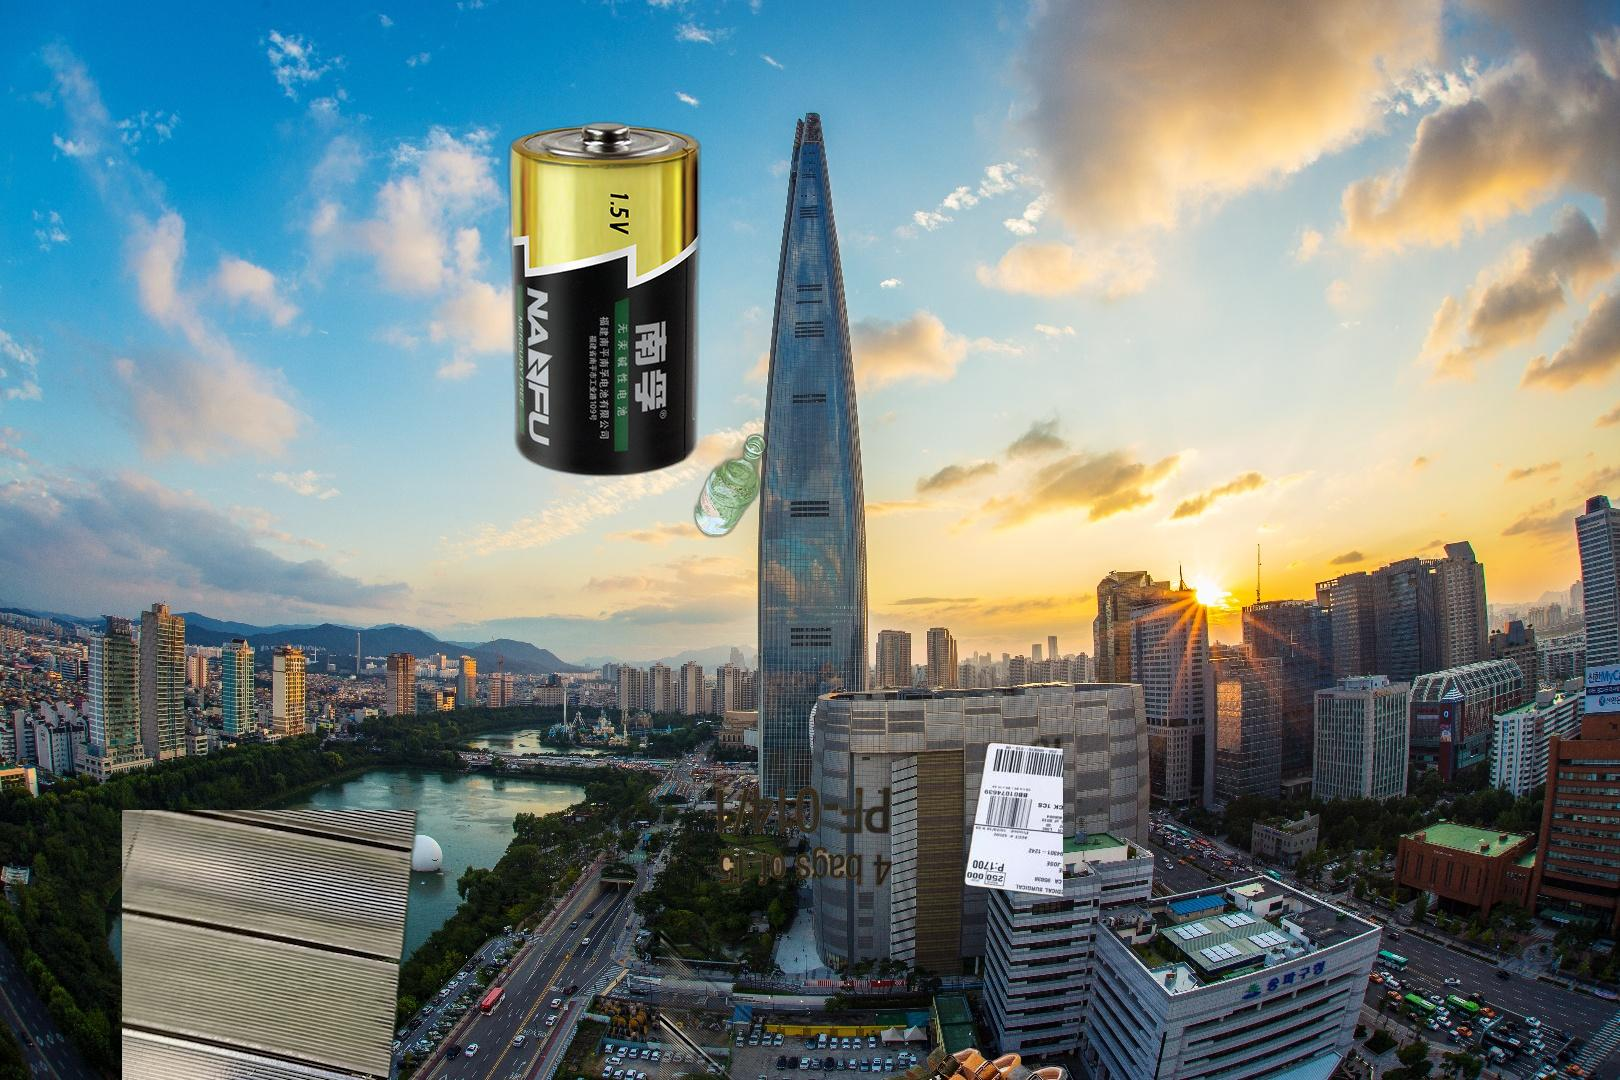battery: (503, 118, 706, 480)
glass: (457, 428, 771, 855)
metal-cans: (122, 810, 554, 1080)
plastic-bottles: (660, 841, 1172, 1080)
shoes: (872, 1044, 1078, 1080)
trashbox-cardboard: (712, 729, 1063, 1080)
